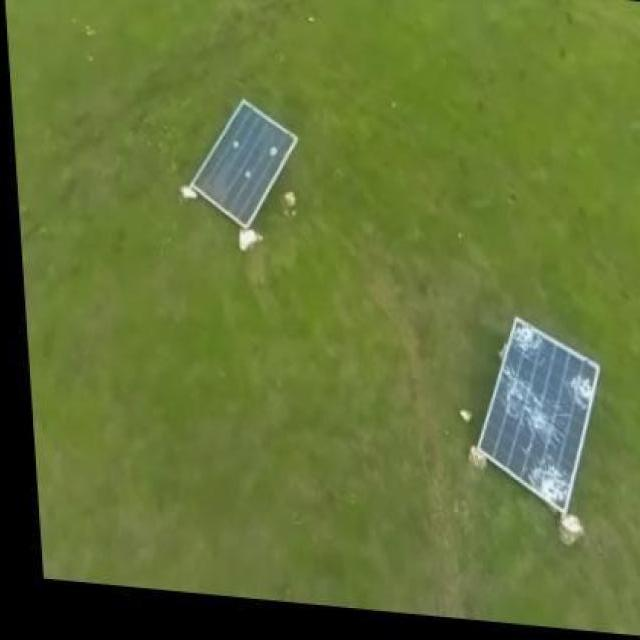cracked: (478, 318, 600, 518)
soiled: (189, 98, 297, 228)
